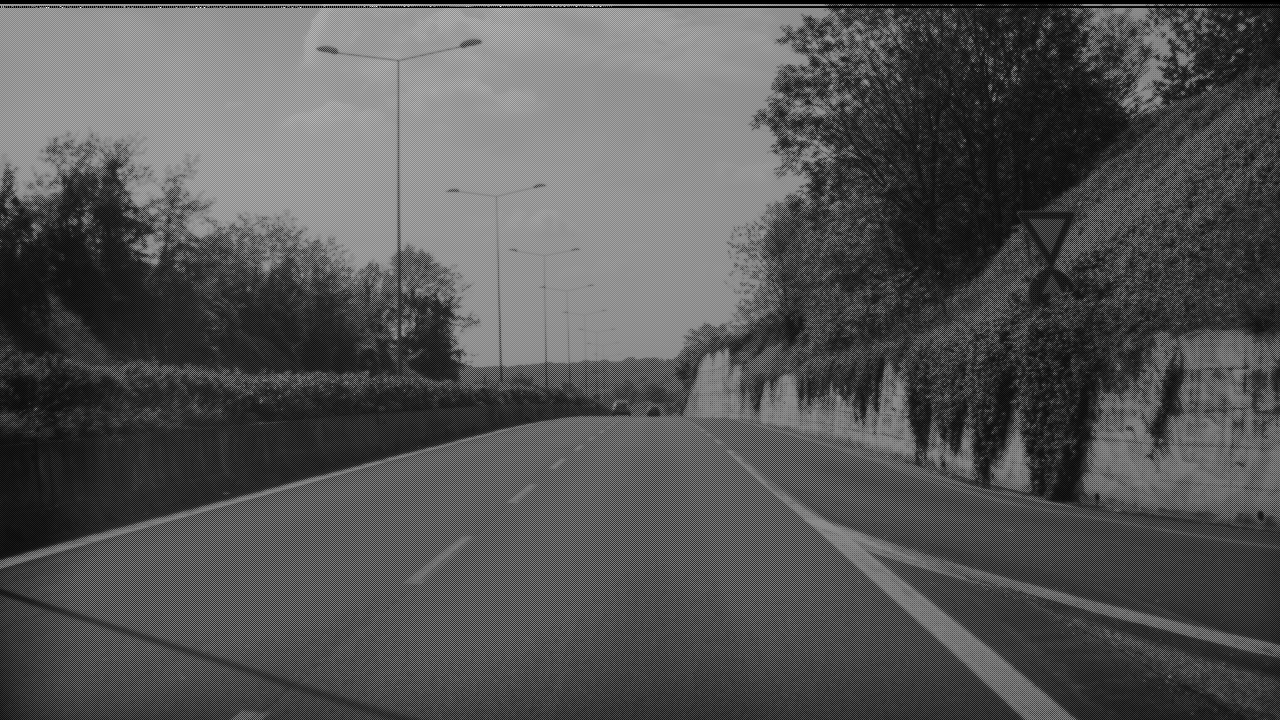pole: (395, 55, 401, 364), (493, 192, 503, 373), (541, 249, 549, 382), (565, 283, 572, 380)
